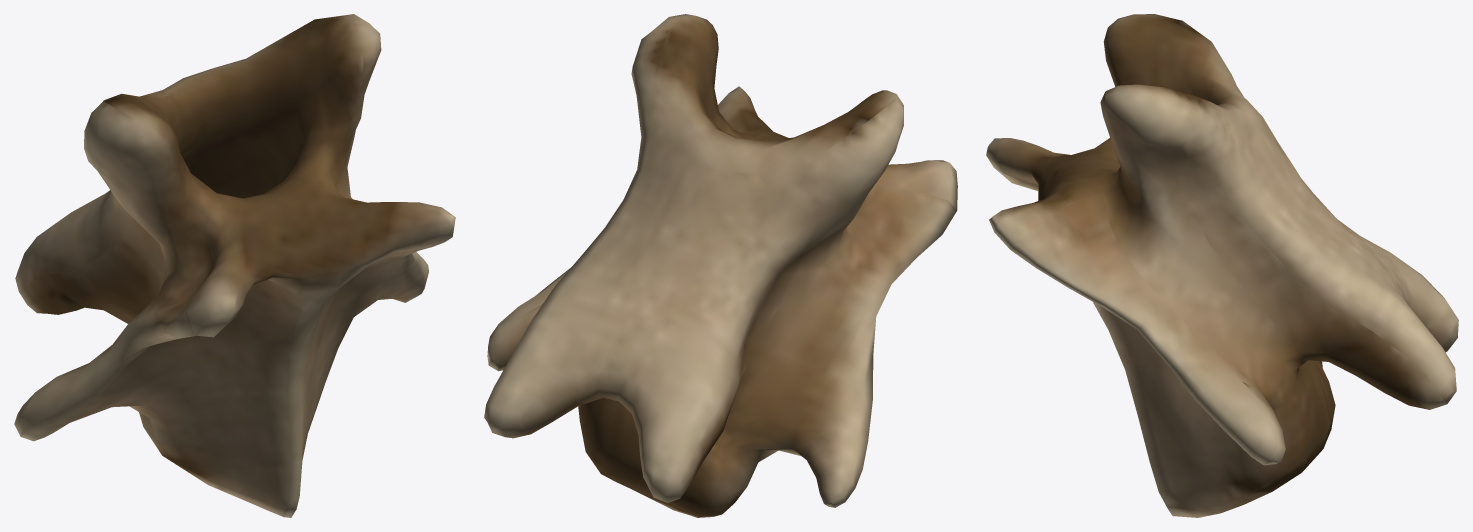
Rendered from Cervical_Vertebrae2.glb.
3 views of the same model, side by side, from view 1: azimuth 30°, elevation 25°; view 2: azimuth 150°, elevation 25°; view 3: azimuth 270°, elevation 25° (orthographic). The views are drawn at different scales.
Visible parts, largest first — view 1: Horse_low:SelSet_46Merged_L_Frt_Sesamoid_Bones_1; view 2: Horse_low:SelSet_46Merged_L_Frt_Sesamoid_Bones_1; view 3: Horse_low:SelSet_46Merged_L_Frt_Sesamoid_Bones_1.
Boxes of the visible parts, <box> form: Horse_low:SelSet_46Merged_L_Frt_Sesamoid_Bones_1: <box>14,14,455,517</box>; Horse_low:SelSet_46Merged_L_Frt_Sesamoid_Bones_1: <box>484,14,957,517</box>; Horse_low:SelSet_46Merged_L_Frt_Sesamoid_Bones_1: <box>986,14,1458,517</box>.
Size of the model in its own units: 0.1166 by 0.1389 by 0.1317.
Materials: 1 (1 with a texture image).
